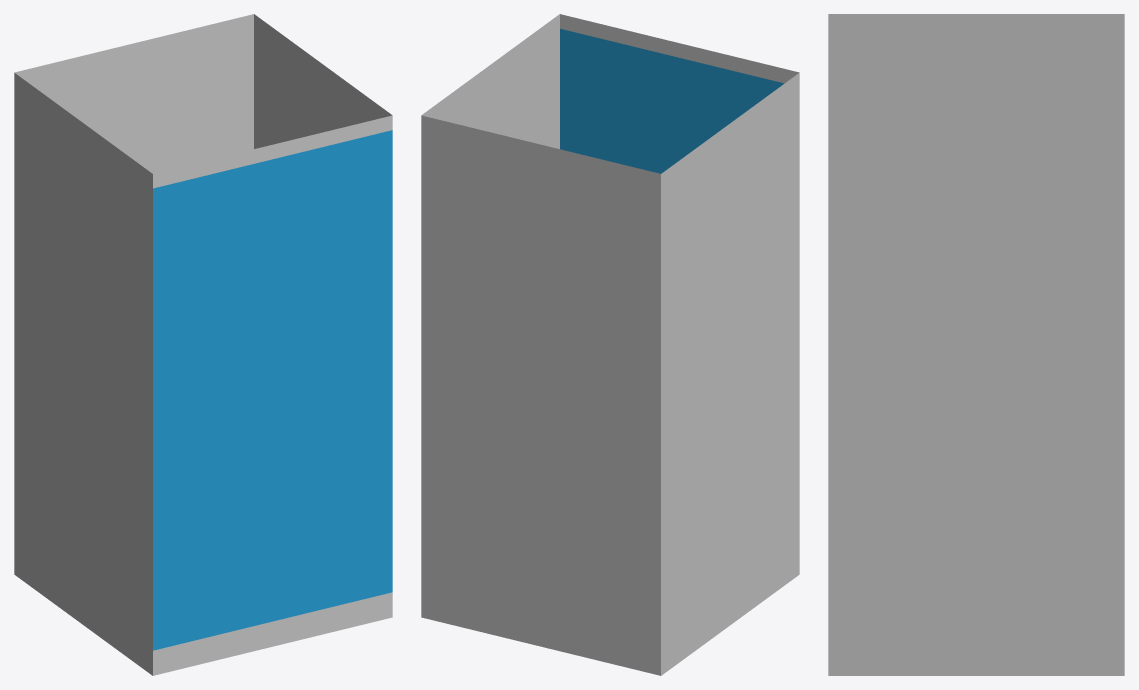
The model's file is SegmentedCubeWall.fbx.
The picture shows the model from 3 angles, left to right: view 1: azimuth 30°, elevation 25°; view 2: azimuth 150°, elevation 25°; view 3: azimuth 270°, elevation 25°; orthographic projection. The views are drawn at different scales.
Parts seen in each view (by area): view 1: WallSegment.001; view 2: WallSegment.001; view 3: WallSegment.001.
Boxes of the visible parts, x1,y1,x2,y2 form: WallSegment.001: (14, 14, 392, 675); WallSegment.001: (421, 14, 799, 675); WallSegment.001: (828, 14, 1124, 675).
Bounding box in the file's own units: 200 × 200 × 400.
